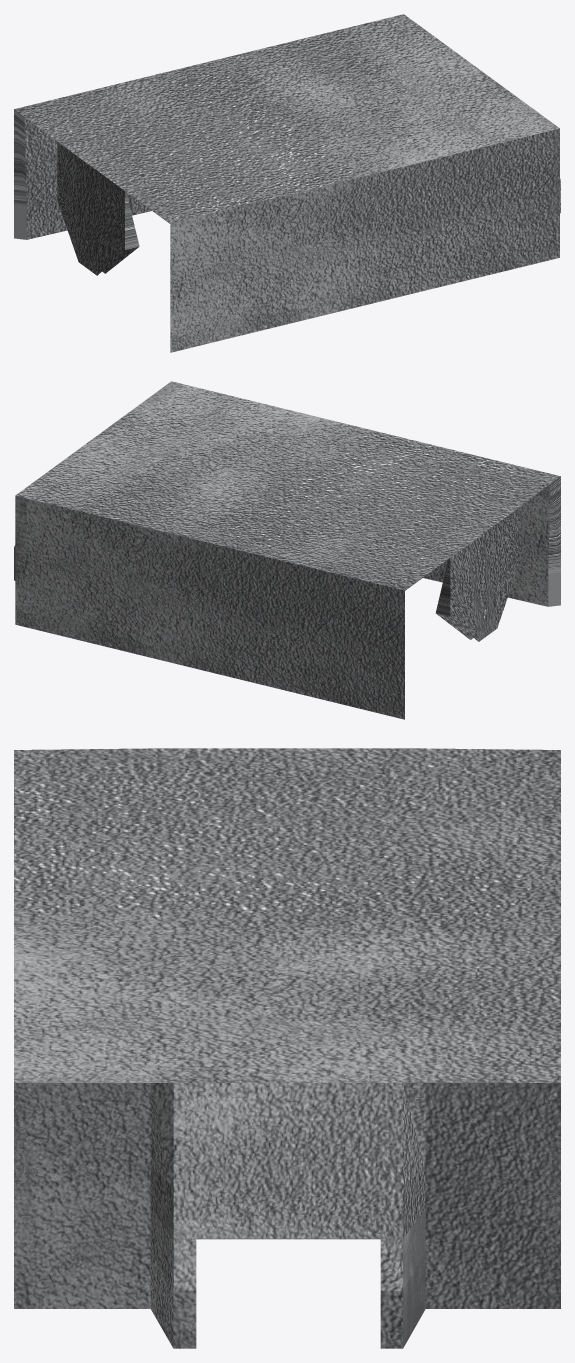
Rendered from chassis1.obj.
The picture shows the model from 3 angles, top to bottom: view 1: azimuth 30°, elevation 25°; view 2: azimuth 150°, elevation 25°; view 3: azimuth 270°, elevation 25°; orthographic projection. The views are drawn at different scales.
Visible parts, largest first — view 1: Cube_Cube.002; view 2: Cube_Cube.002; view 3: Cube_Cube.002.
Part boxes in pixels (<box>): Cube_Cube.002: <box>14,14,560,352</box>; Cube_Cube.002: <box>14,381,560,719</box>; Cube_Cube.002: <box>14,748,560,1348</box>.
Size of the model in its own units: 9.61 by 2.7 by 5.9.
